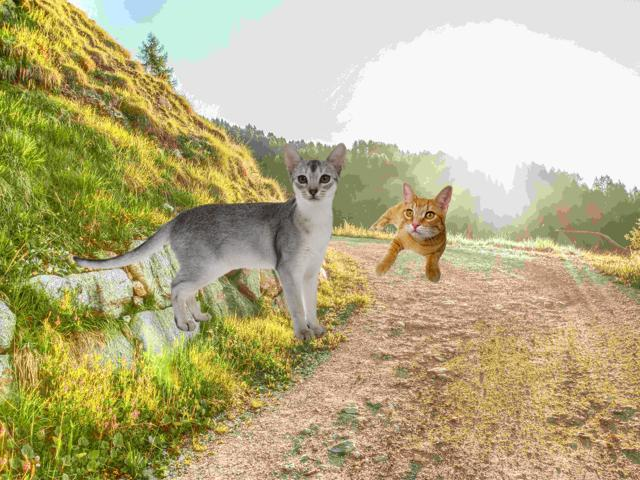cat: (62, 135, 367, 349), (372, 183, 451, 281)
